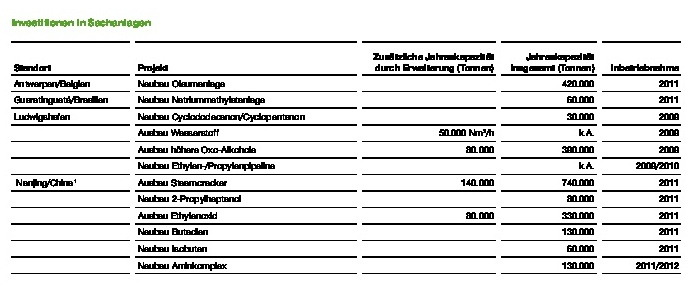table: (0, 0, 696, 286)
